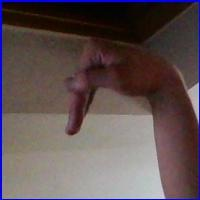del: (63, 32, 179, 144)
